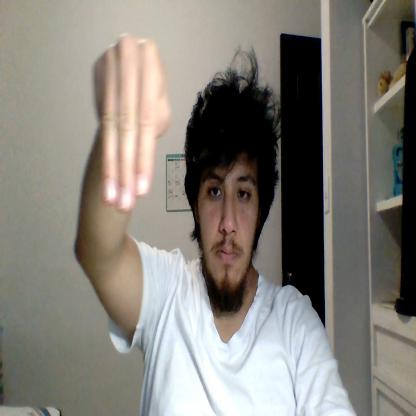M: (93, 35, 172, 214)
